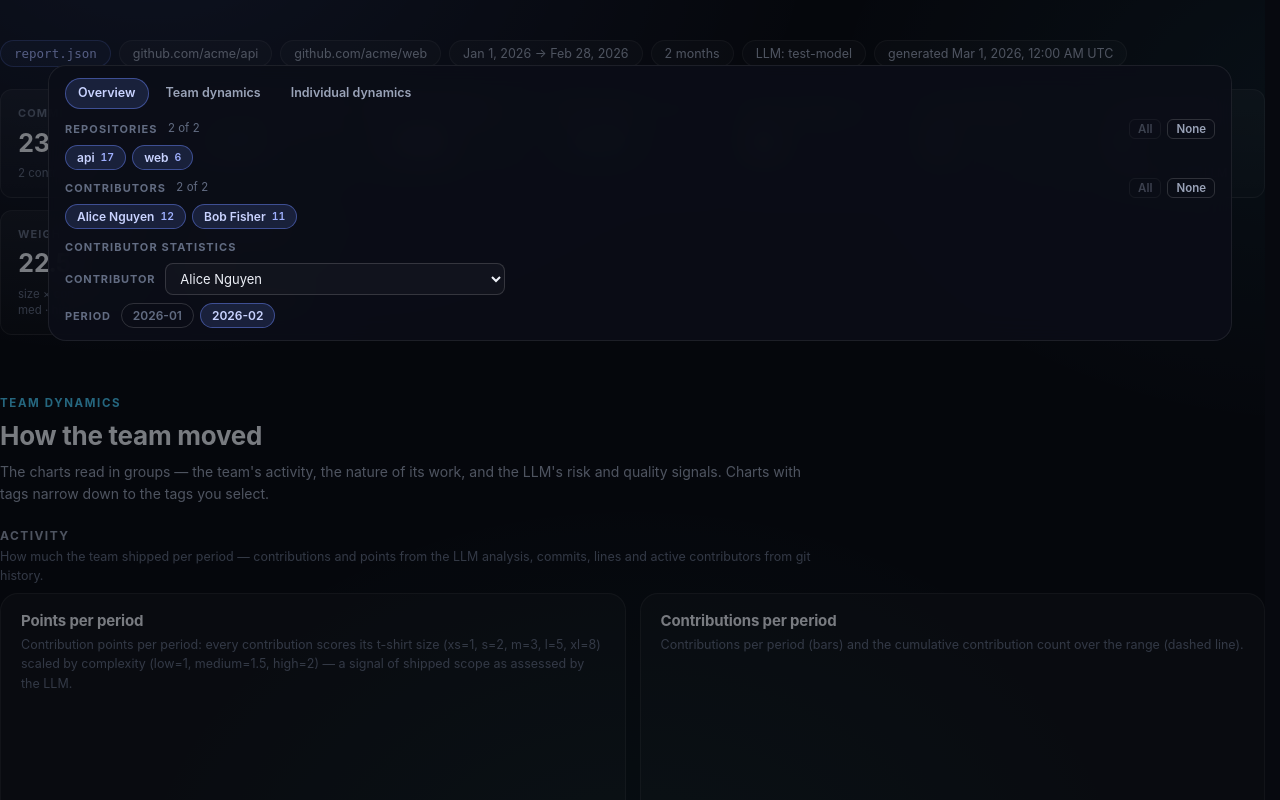
it: Dashboard scope filters › restores the full report on reset
Click the button "Alice Nguyen 12" at point(126, 216), box [65,204,186,229]
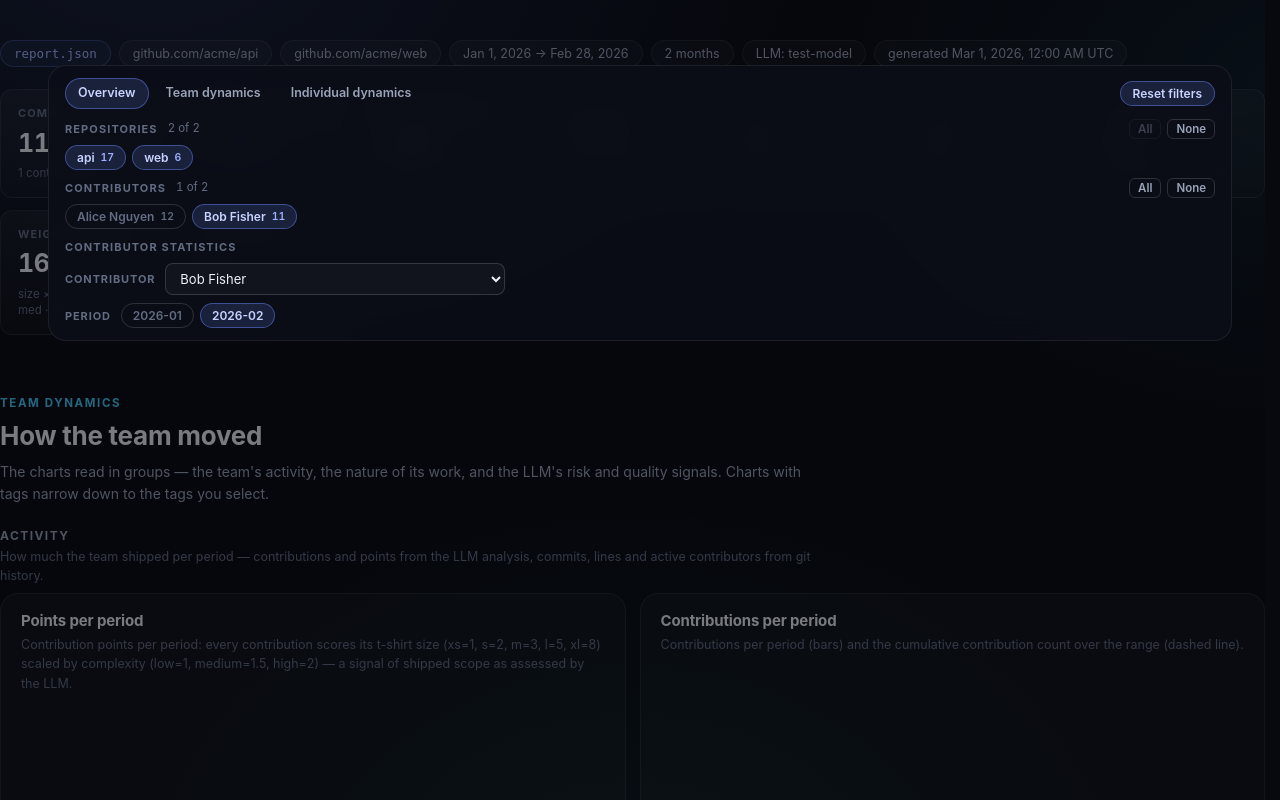
Click the button "Reset filters" at point(1167, 93), box [1120,81,1215,106]
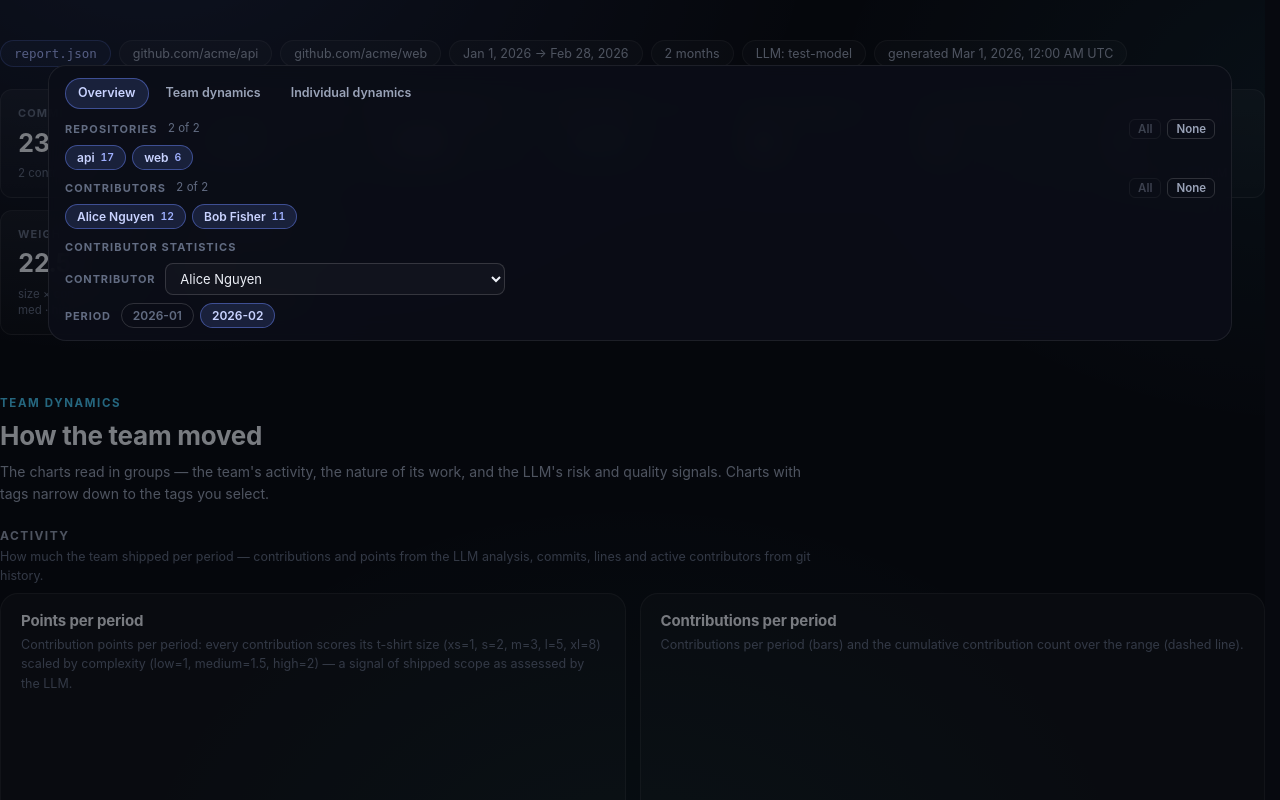
Check: the button "Reset filters" is gone
